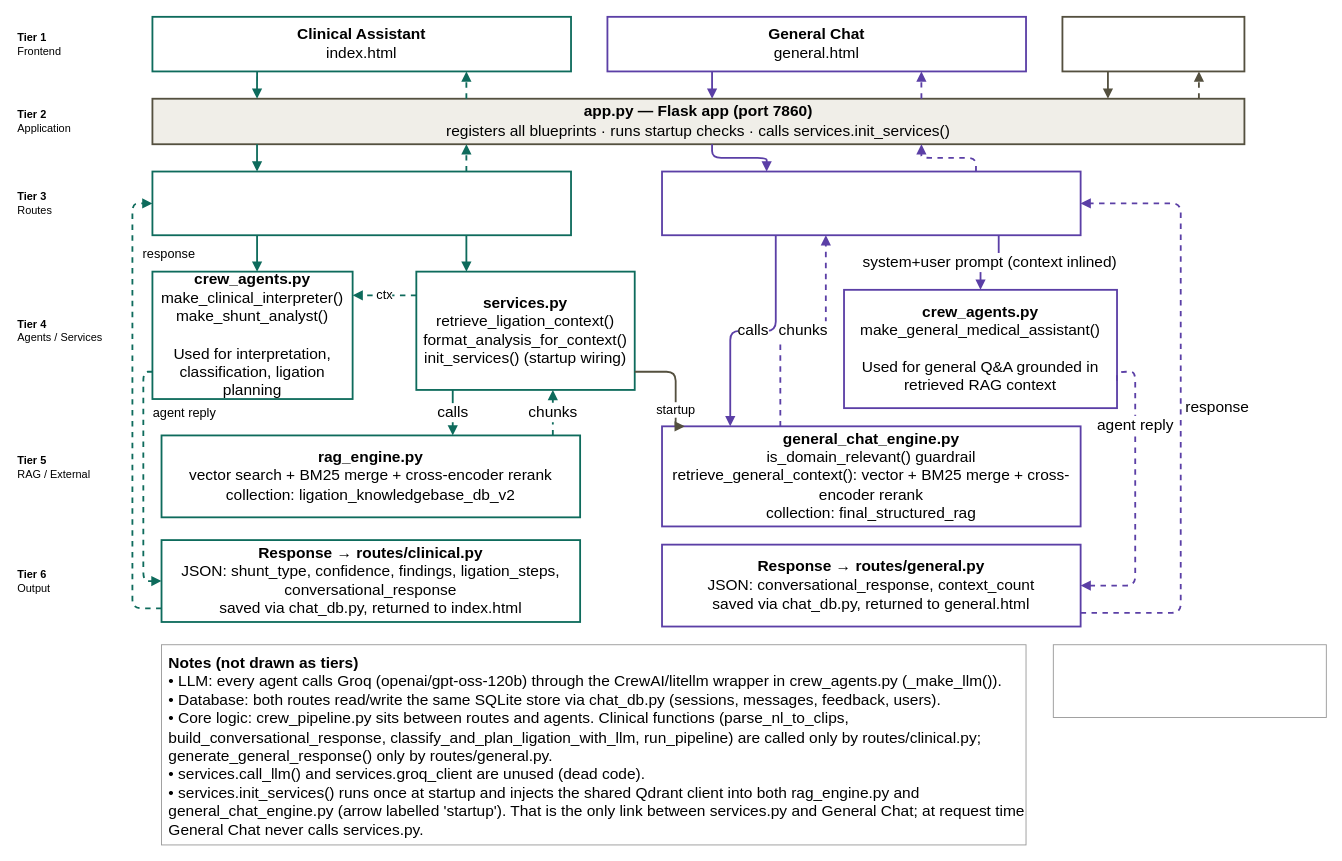
This 1342x861 diagram has some shape labels left out. Here are the shapes that lost their labels. From the top down, the centre of each, then its label:
At [1153,43]: "Admin Interface admin.html".
At [361,203]: "routes/clinical.py POST /api/chat POST /api/classify".
At [871,203]: "routes/general.py POST /api/general-chat".
At [1189,681]: "Legend Solid arrow = request / call Dashed arrow = response / data returned".
